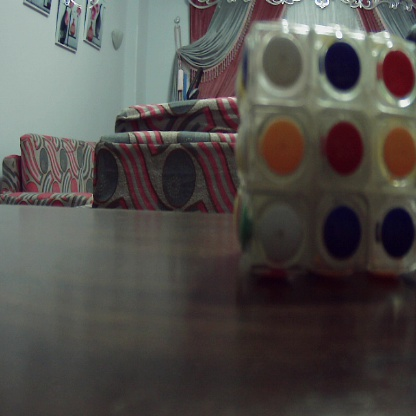Rubix Cube: (236, 23, 415, 281)
